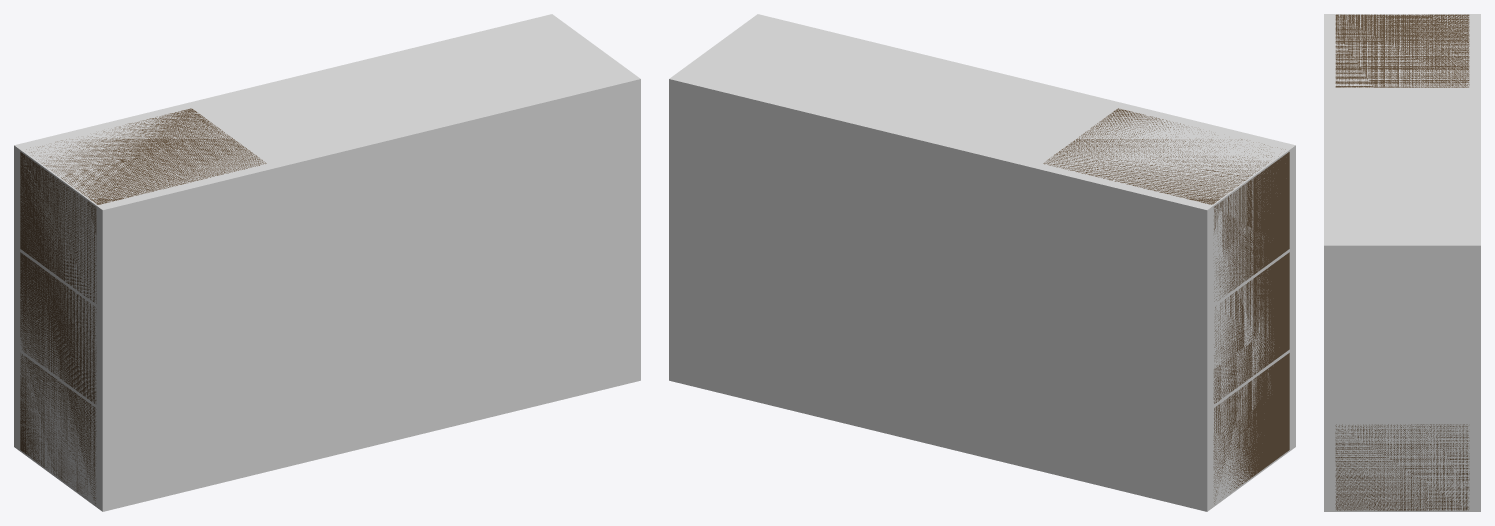
The model's file is crate_stair.glb.
3 renders of one model, left to right at view 1: azimuth 30°, elevation 25°; view 2: azimuth 150°, elevation 25°; view 3: azimuth 270°, elevation 25°, orthographic. The views are drawn at different scales.
Parts seen in each view (by area): view 1: crate_stair-convcol, stair_mesh; view 2: crate_stair-convcol, stair_mesh; view 3: crate_stair-convcol, stair_mesh.
Part boxes in pixels (x1,y1,x2,y2): crate_stair-convcol: (14,14,640,511); stair_mesh: (20,108,266,503); crate_stair-convcol: (669,14,1295,511); stair_mesh: (1043,108,1289,503); crate_stair-convcol: (1324,14,1480,511); stair_mesh: (1335,14,1469,510).
Bounding box in the file's own units: 2.8 × 1.5 × 0.8.
